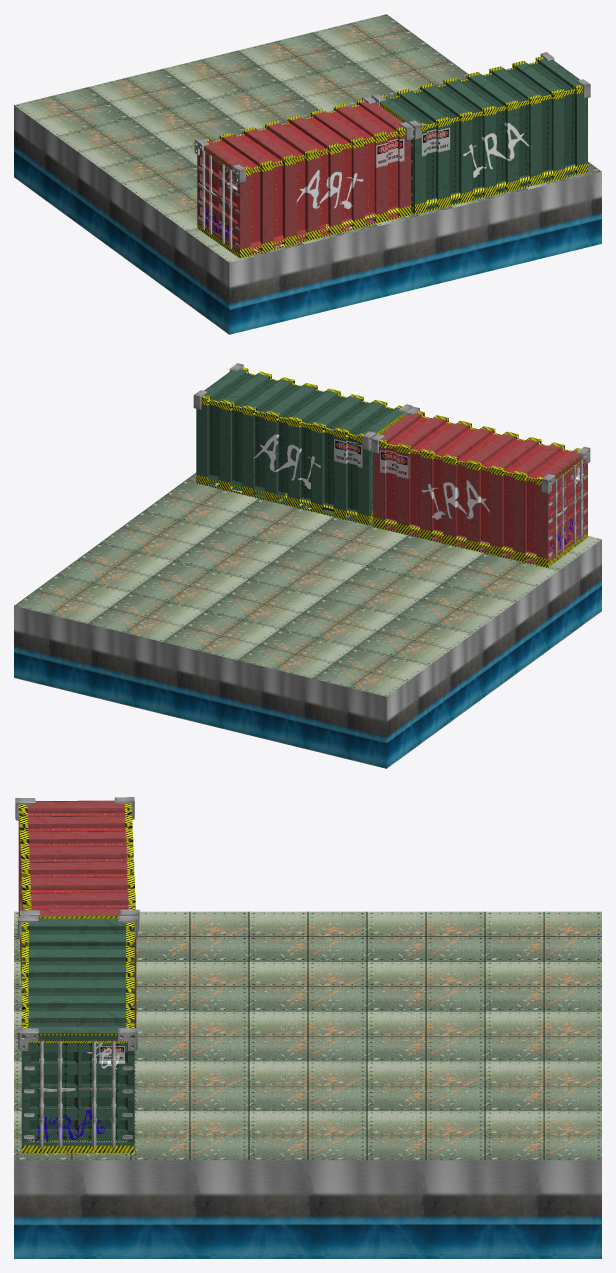
Rendered from tile single side(1).fbx.
3 views of the same model, one above another, from view 1: azimuth 30°, elevation 25°; view 2: azimuth 150°, elevation 25°; view 3: azimuth 270°, elevation 25° (orthographic). The views are drawn at different scales.
Parts seen in each view (by area): view 1: Cube, Cube.001, Cube.002; view 2: Cube, Cube.001, Cube.002; view 3: Cube, Cube.002, Cube.001.
Part boxes in pixels (x1=…): Cube: x1=14, y1=14, x2=601, y2=334; Cube.001: x1=194, y1=95, x2=412, y2=258; Cube.002: x1=371, y1=52, x2=590, y2=214; Cube: x1=14, y1=472, x2=601, y2=768; Cube.001: x1=371, y1=406, x2=590, y2=567; Cube.002: x1=193, y1=363, x2=412, y2=525; Cube: x1=14, y1=911, x2=601, y2=1258; Cube.002: x1=18, y1=916, x2=137, y2=1152; Cube.001: x1=15, y1=797, x2=139, y2=1028.
Size of the model in its own units: 20000 by 8250 by 20000.
